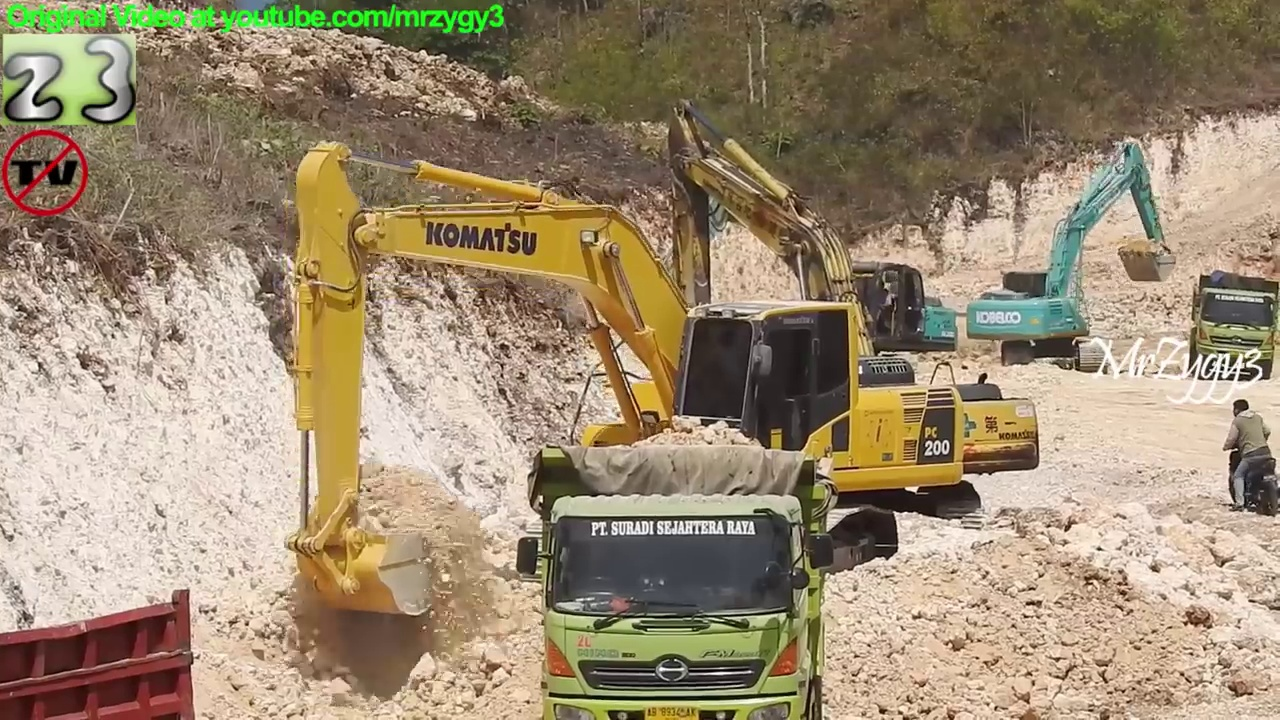excavator: (277, 134, 977, 624), (647, 90, 1050, 541), (609, 158, 965, 378), (960, 130, 1182, 379)
truck: (512, 440, 843, 720), (1, 583, 200, 720), (1185, 267, 1280, 384)
